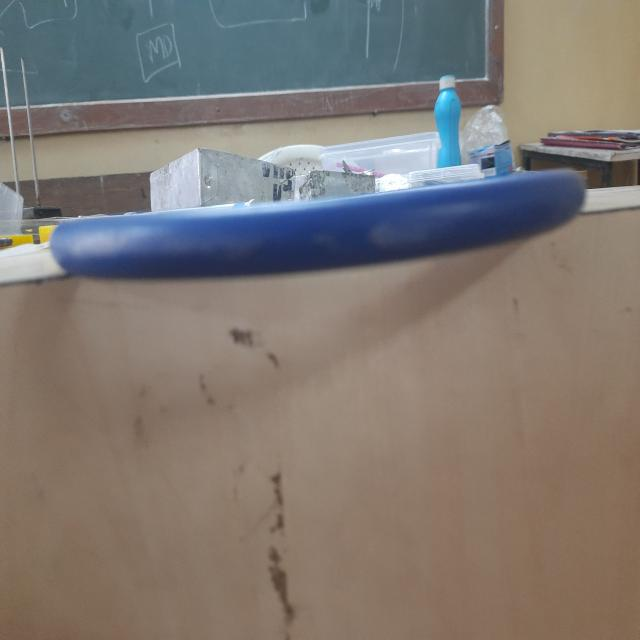daire: (49, 171, 585, 279)
